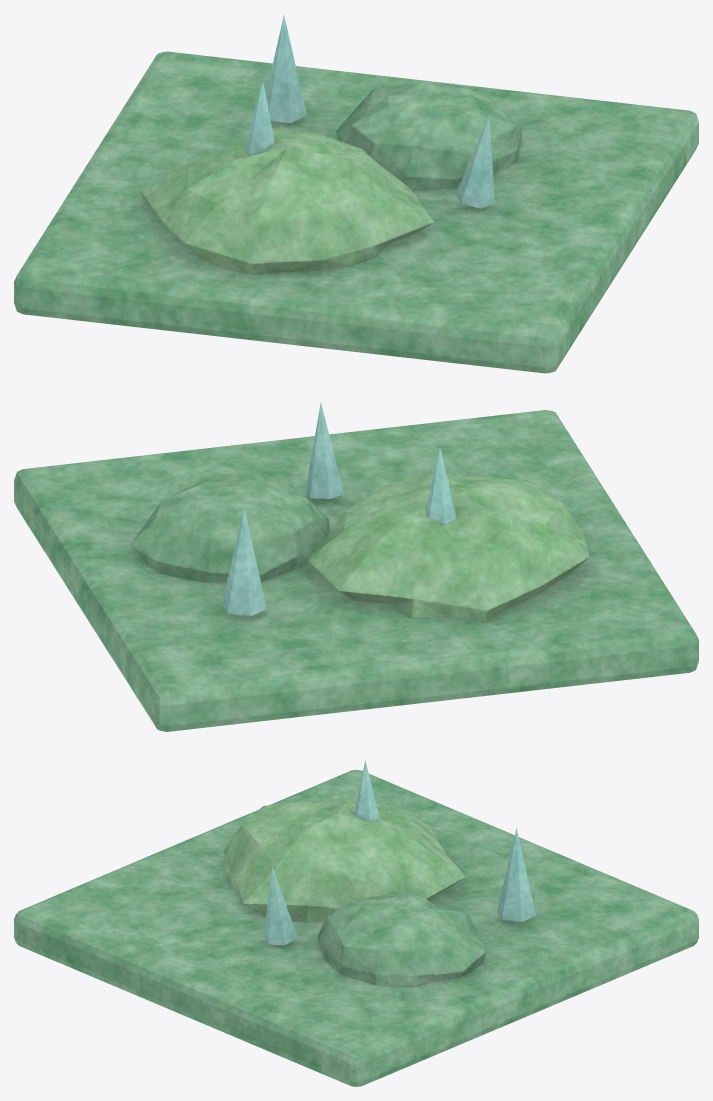
The model's file is yllien_hills.glb.
3 renders of one model, top to bottom at view 1: azimuth 30°, elevation 25°; view 2: azimuth 150°, elevation 25°; view 3: azimuth 270°, elevation 25°, orthographic. The views are drawn at different scales.
Visible parts, largest first — view 1: dilek; view 2: dilek; view 3: dilek.
Part boxes in pixels (left/top/right/bottom): dilek: left=14, top=15, right=698, bottom=373; dilek: left=14, top=403, right=698, bottom=731; dilek: left=14, top=760, right=698, bottom=1086.
Bounding box in the file's own units: 2.42 × 0.6709 × 2.42.
Materials: 1 (1 with a texture image).
